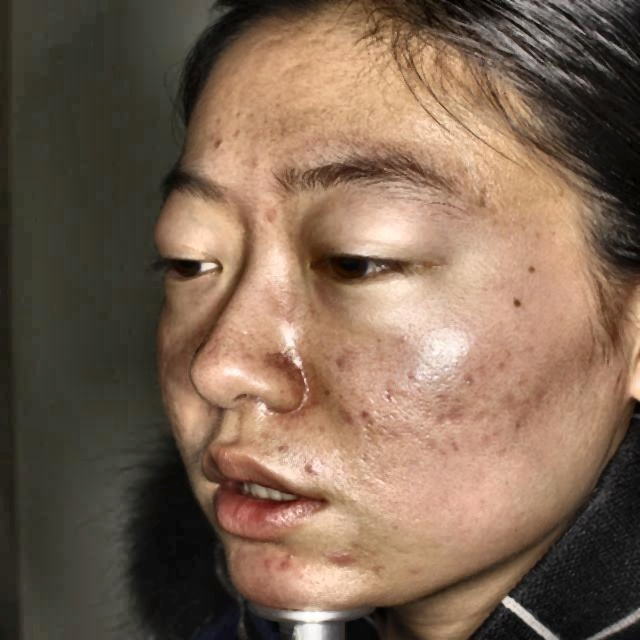comedone: (323, 543, 363, 566), (300, 458, 323, 486), (265, 553, 300, 571)
